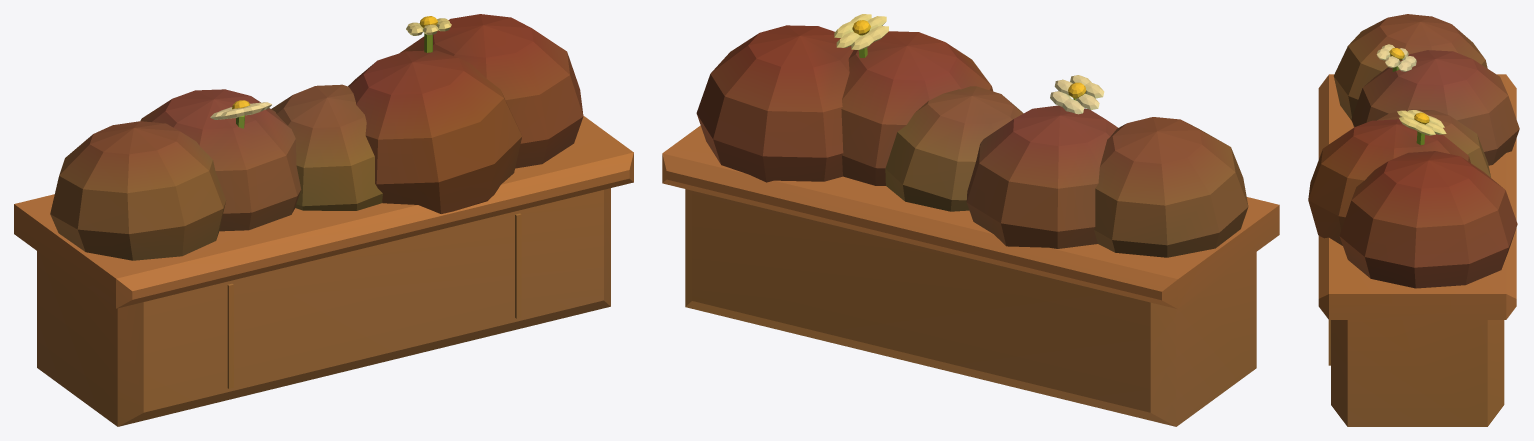
Rendered from Prop_Planter.glb.
3 views of the same model, side by side, from view 1: azimuth 30°, elevation 25°; view 2: azimuth 150°, elevation 25°; view 3: azimuth 270°, elevation 25° (orthographic). The views are drawn at different scales.
Visible parts, largest first — view 1: Prop_Planter; view 2: Prop_Planter; view 3: Prop_Planter.
Part boxes in pixels (x1,y1,x2,y2): Prop_Planter: [14, 14, 633, 426]; Prop_Planter: [662, 14, 1279, 426]; Prop_Planter: [1308, 14, 1519, 426].
Bounding box in the file's own units: 1.27 × 0.6809 × 0.5133.
